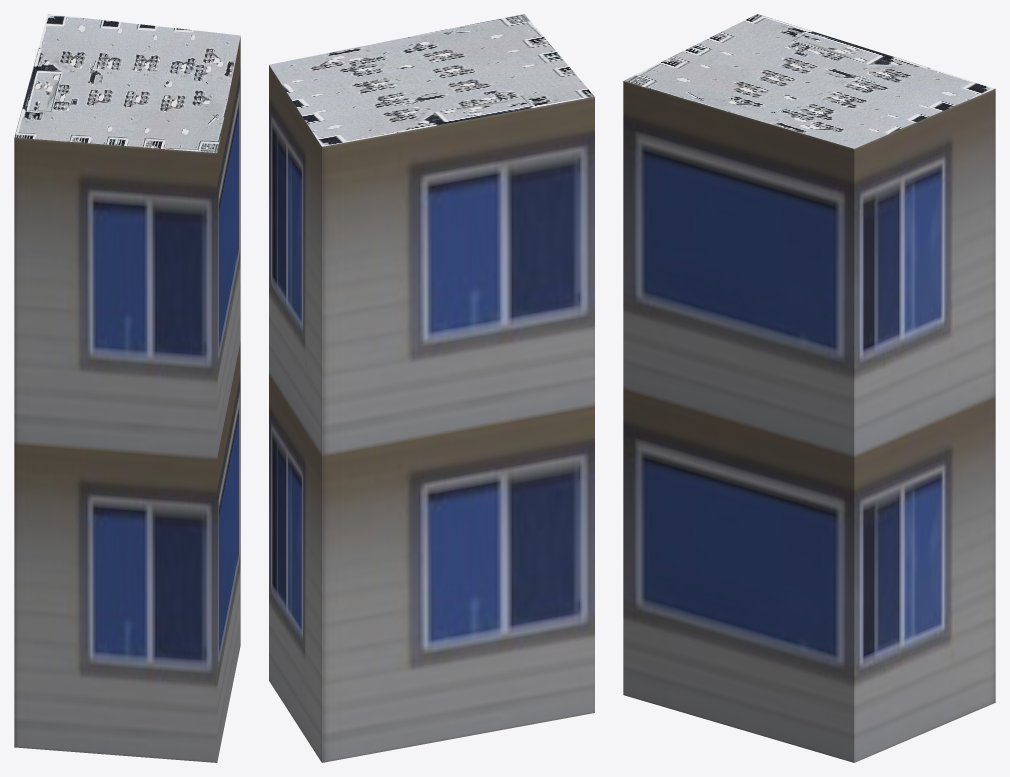
File: ResTex__3631.fbx
3 renders of one model, left to right at view 1: azimuth 30°, elevation 25°; view 2: azimuth 150°, elevation 25°; view 3: azimuth 270°, elevation 25°, orthographic.
Visible parts, largest first — view 1: CityEngineMaterial_23_m, CityEngineMaterial_8_m; view 2: CityEngineMaterial_23_m, CityEngineMaterial_8_m; view 3: CityEngineMaterial_23_m, CityEngineMaterial_8_m.
Part boxes in pixels (x1,y1,x2,y2): CityEngineMaterial_23_m: (14,37,240,762); CityEngineMaterial_8_m: (14,14,240,152); CityEngineMaterial_23_m: (269,65,594,762); CityEngineMaterial_8_m: (269,14,594,146); CityEngineMaterial_23_m: (623,81,995,762); CityEngineMaterial_8_m: (624,14,995,148).
Size of the model in its own units: 2.83 by 6 by 3.3.
2 materials, 2 textured.
